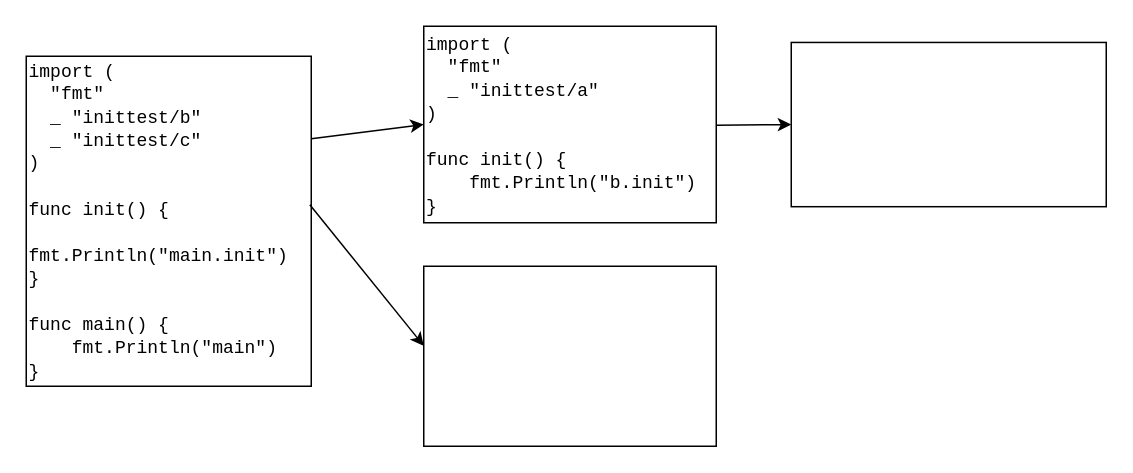
Some shapes in this 1133 by 473 pixel diagram are drawn without their labels. The shapes that lost their labels are listed below. From the top down, each one's centre as x and y in pixels, then its label:
(948,124): import ( "fmt" ) func init() { fmt.Println("a.init") }
(569,355): import ( "fmt" ) func init() { fmt.Println("c.init") }
